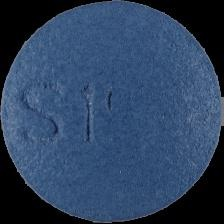63629-3142: (0, 0, 224, 224)
